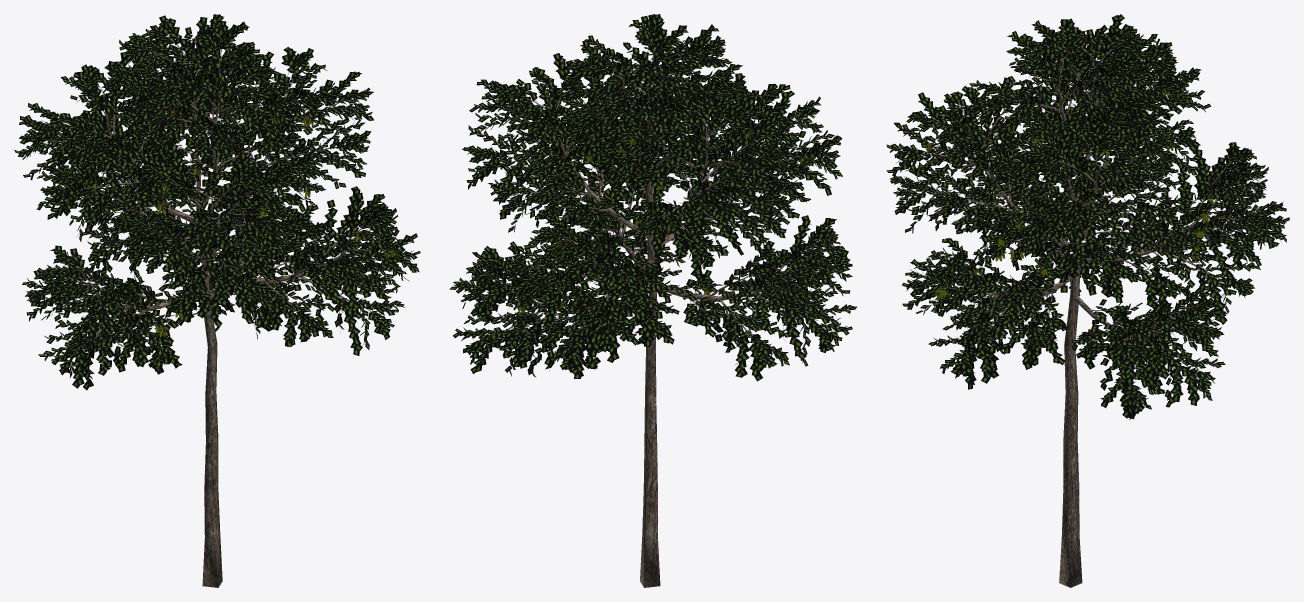
Rendered from tree.fbx.
3 renders of one model, left to right at view 1: azimuth 30°, elevation 25°; view 2: azimuth 150°, elevation 25°; view 3: azimuth 270°, elevation 25°, orthographic.
Visible parts, largest first — view 1: leaves, tree, fruits; view 2: leaves, tree, fruits; view 3: leaves, tree, fruits.
Part boxes in pixels (bbox=[...]): leaves: bbox=[14, 14, 420, 390]; tree: bbox=[35, 34, 410, 587]; fruits: bbox=[88, 73, 398, 337]; leaves: bbox=[449, 14, 857, 381]; tree: bbox=[471, 28, 845, 587]; fruits: bbox=[518, 85, 832, 341]; leaves: bbox=[886, 14, 1289, 419]; tree: bbox=[900, 38, 1269, 587]; fruits: bbox=[924, 81, 1214, 365].
Size of the model in its own units: 1709 by 2611 by 1744.
Materials: 3 (3 with a texture image).
